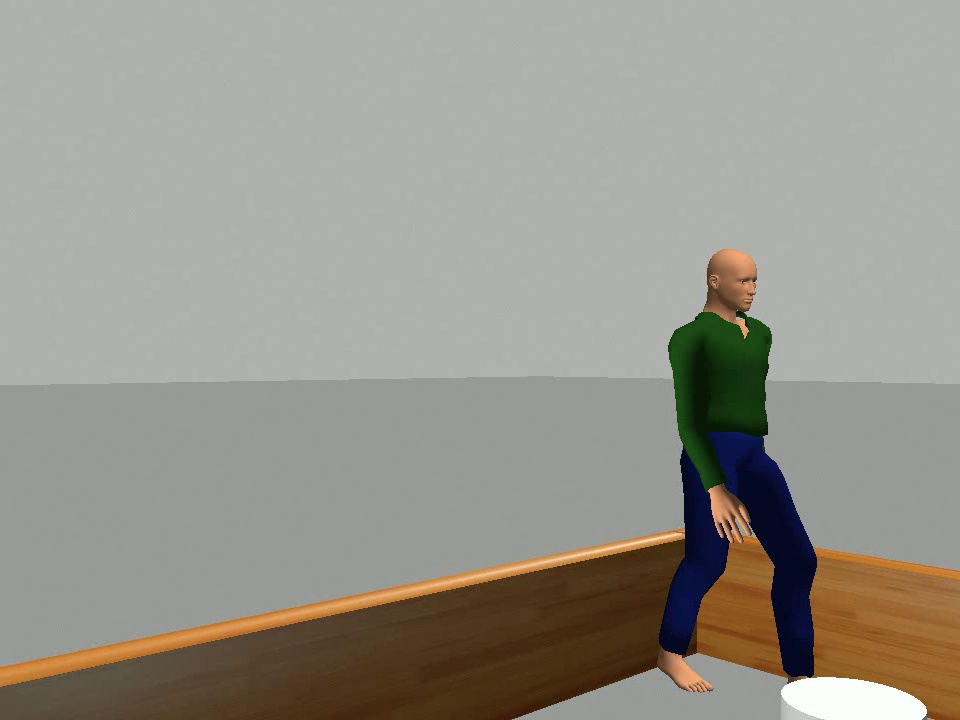person: (654, 245, 831, 696)
